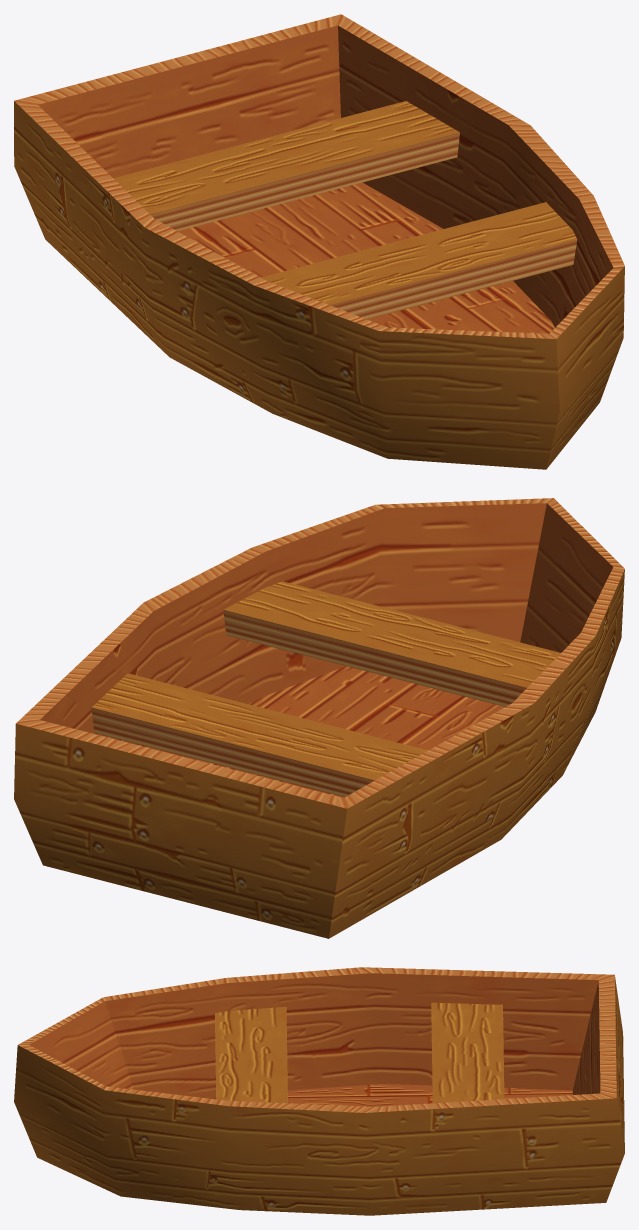
File: barco_fishing.fbx
The picture shows the model from 3 angles, top to bottom: view 1: azimuth 30°, elevation 25°; view 2: azimuth 150°, elevation 25°; view 3: azimuth 270°, elevation 25°; orthographic projection. The views are drawn at different scales.
Visible parts, largest first — view 1: boat; view 2: boat; view 3: boat.
Part boxes in pixels (x1,y1,x2,y2): boat: [14, 14, 624, 469]; boat: [14, 498, 624, 938]; boat: [14, 967, 624, 1215].
Bounding box in the file's own units: 15.26 × 5.72 × 26.1.
